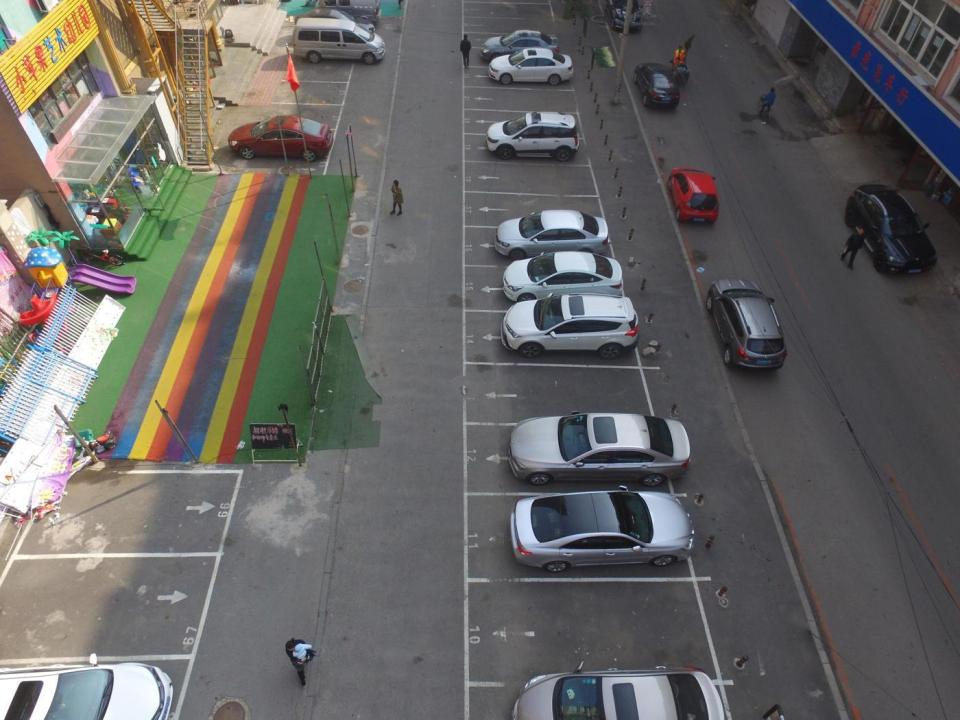car: (509, 484, 695, 574), (508, 411, 690, 488), (512, 660, 724, 720), (0, 652, 173, 719), (500, 291, 640, 360), (844, 184, 938, 275), (706, 278, 787, 372), (502, 250, 624, 308), (494, 210, 608, 262), (228, 115, 333, 162), (486, 110, 580, 162), (488, 47, 573, 86), (666, 167, 718, 224), (480, 29, 560, 62), (634, 63, 680, 109), (604, 0, 642, 34)
van: (292, 16, 386, 66)
